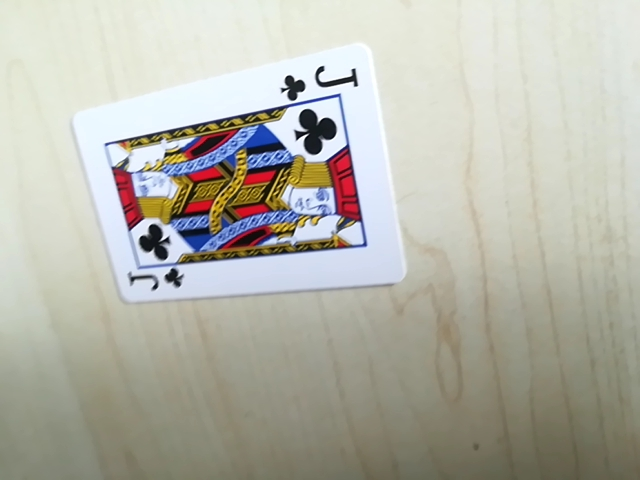mh j: (279, 60, 362, 103), (123, 259, 185, 299)
